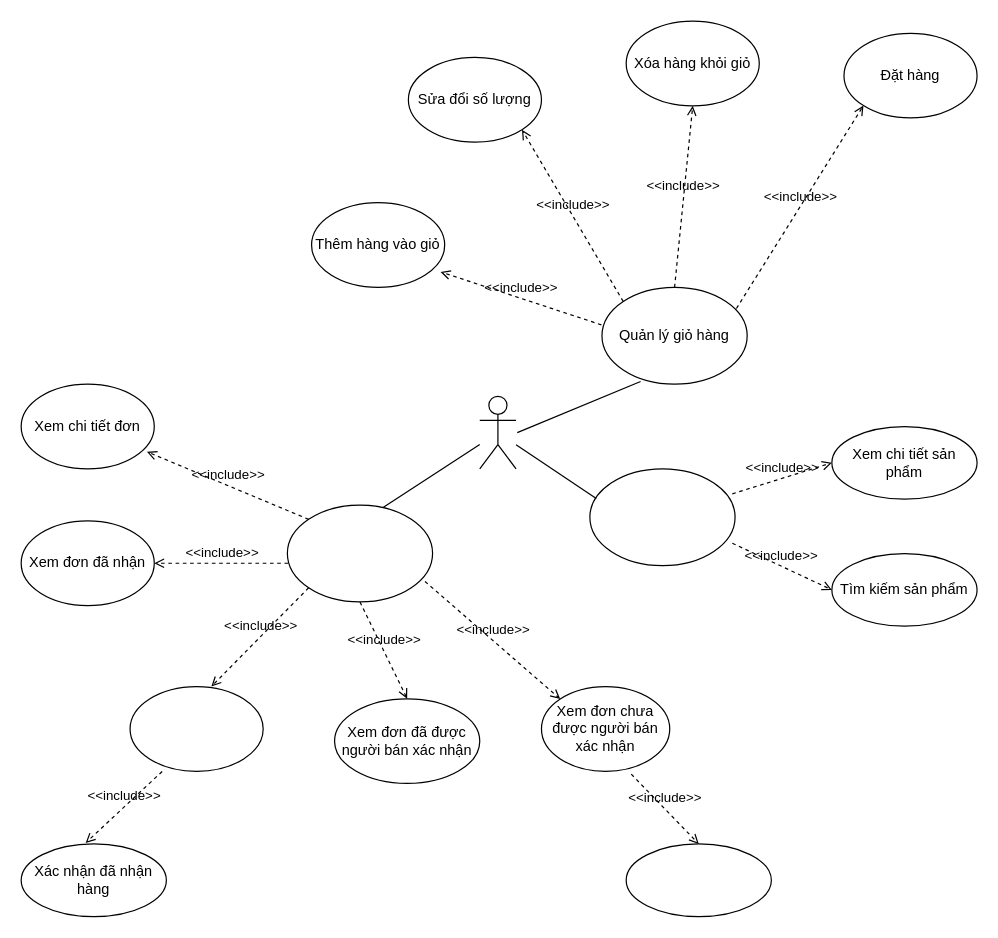
The diagram is 998 pixels wide and 938 high, and some of its shapes have lost their labels. The centre of each missing label's shape, as x and y in pixels:
Hủy đơn hàng: [698,880]
Người mua: [497,432]
Theo dõi đơn hàng: [359,553]
Xem sản phẩm: [662,517]
Xem đơn đang giao: [196,728]
